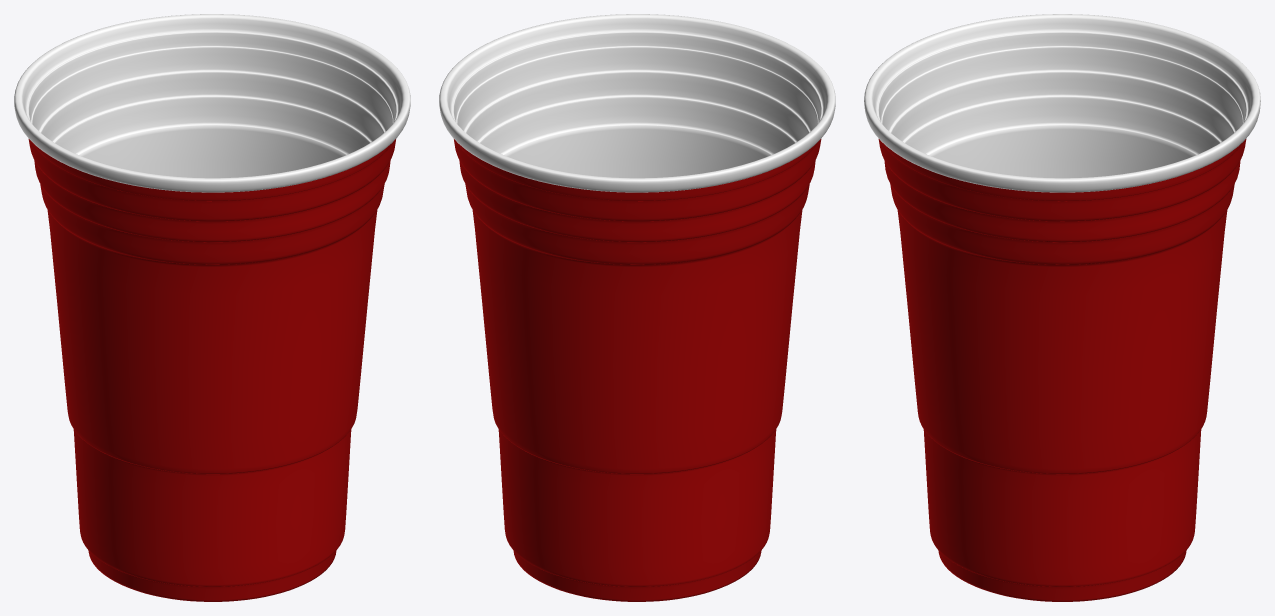
File: ExportedBlenderFBXFile.fbx
The picture shows the model from 3 angles, left to right: view 1: azimuth 30°, elevation 25°; view 2: azimuth 150°, elevation 25°; view 3: azimuth 270°, elevation 25°; orthographic projection.
Parts seen in each view (by area): view 1: uploads_files_1842301_Classic_red_cup.001; view 2: uploads_files_1842301_Classic_red_cup.001; view 3: uploads_files_1842301_Classic_red_cup.001.
Boxes of the visible parts, bbox=[...] form: uploads_files_1842301_Classic_red_cup.001: bbox=[14, 14, 410, 601]; uploads_files_1842301_Classic_red_cup.001: bbox=[439, 14, 835, 601]; uploads_files_1842301_Classic_red_cup.001: bbox=[864, 14, 1260, 601].
Bounding box in the file's own units: 114 × 145 × 114.
